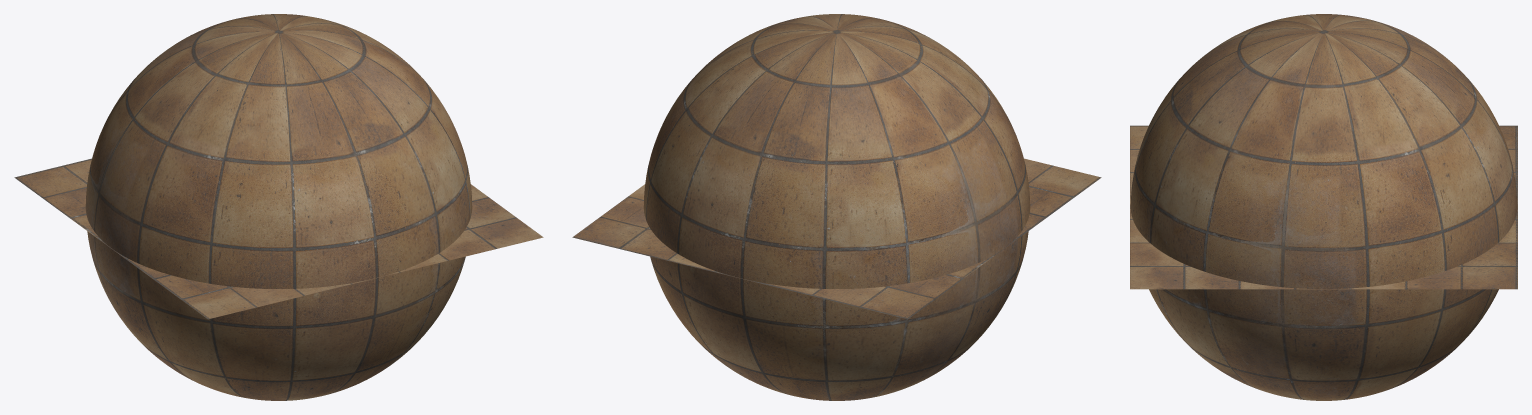
File: brown_floor_tiles_2k.fbx
3 renders of one model, left to right at view 1: azimuth 30°, elevation 25°; view 2: azimuth 150°, elevation 25°; view 3: azimuth 270°, elevation 25°, orthographic.
Visible parts, largest first — view 1: Sphere, Plane; view 2: Sphere, Plane; view 3: Sphere, Plane.
Part boxes in pixels (left/top/right/bottom): Sphere: left=85, top=14, right=472, bottom=400; Plane: left=14, top=158, right=543, bottom=319; Sphere: left=643, top=14, right=1030, bottom=400; Plane: left=572, top=158, right=1101, bottom=319; Sphere: left=1130, top=14, right=1517, bottom=400; Plane: left=1130, top=125, right=1517, bottom=289.
Bounding box in the file's own units: 170 × 170 × 170.
